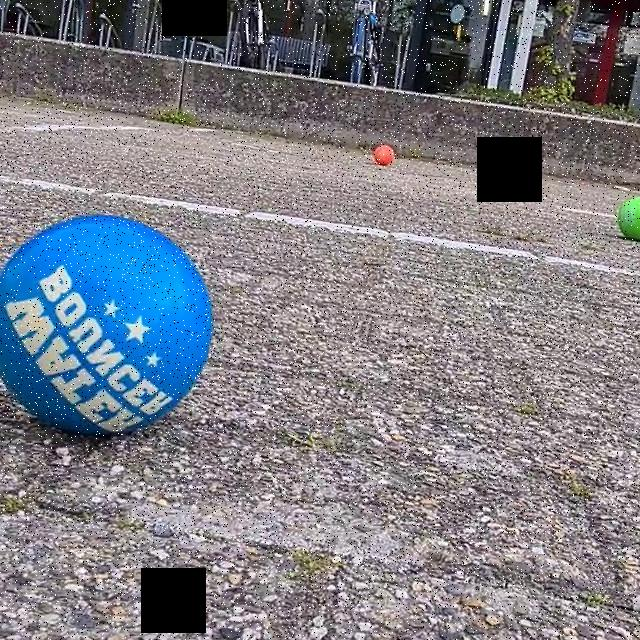ball: (617, 189, 640, 246), (372, 139, 396, 171)
